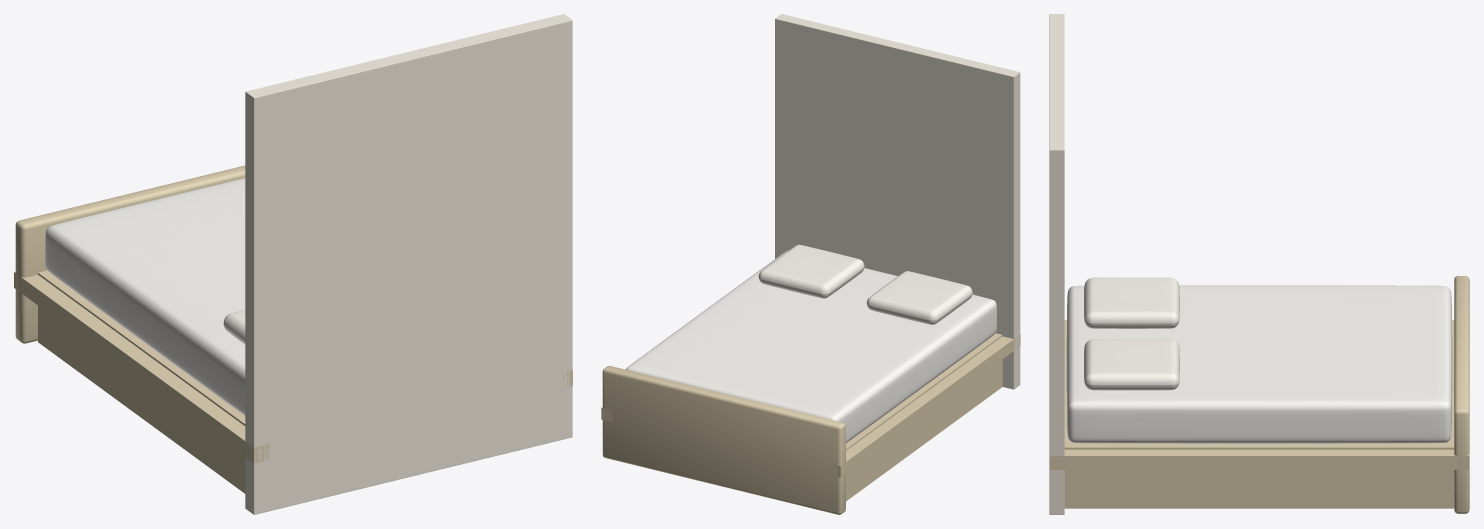
3 renders of one model, left to right at view 1: azimuth 30°, elevation 25°; view 2: azimuth 150°, elevation 25°; view 3: azimuth 270°, elevation 25°, orthographic. The views are drawn at different scales.
Bounding box in the file's own units: 1.68 × 2.1 × 2.19.
